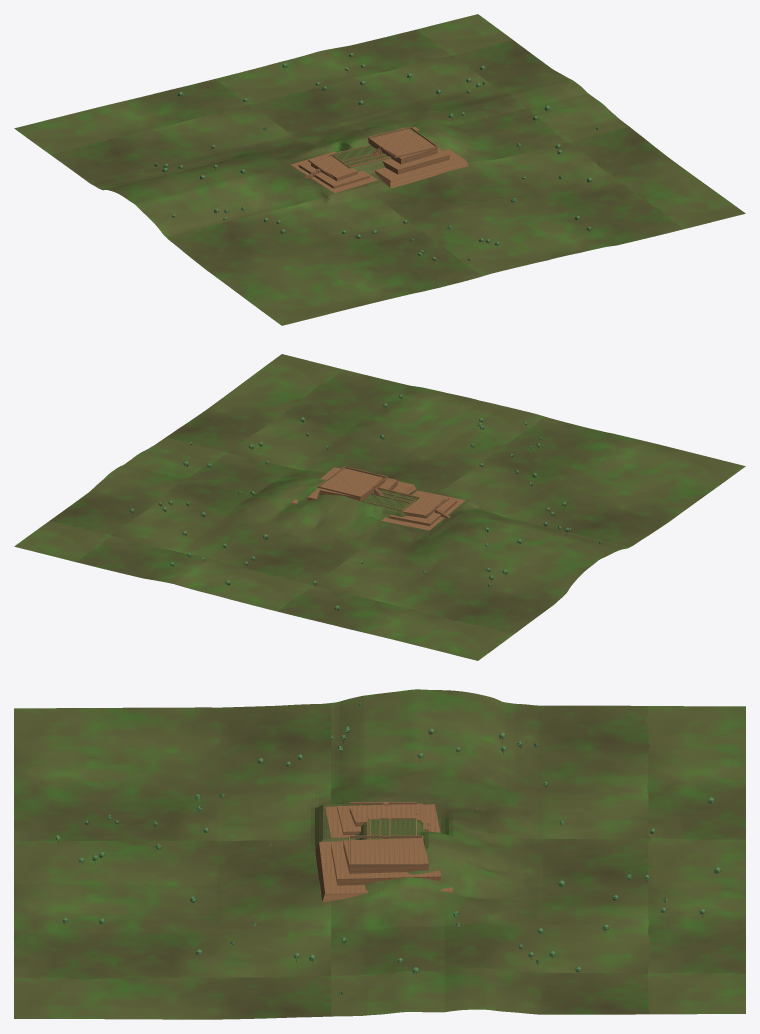
3 views of the same model, one above another, from view 1: azimuth 30°, elevation 25°; view 2: azimuth 150°, elevation 25°; view 3: azimuth 270°, elevation 25° (orthographic). The views are drawn at different scales.
Visible parts, largest first — view 1: GEO-Narihuala_LOD1_Terrain, GEO-Narihuala_LOD1_City, GEO-Narihuala_LOD1_Props; view 2: GEO-Narihuala_LOD1_Terrain, GEO-Narihuala_LOD1_City, GEO-Narihuala_LOD1_Props; view 3: GEO-Narihuala_LOD1_Terrain, GEO-Narihuala_LOD1_City, GEO-Narihuala_LOD1_Props.
Part boxes in pixels (x1,y1,x2,y2): GEO-Narihuala_LOD1_Terrain: [14, 14, 745, 325]; GEO-Narihuala_LOD1_City: [290, 126, 468, 193]; GEO-Narihuala_LOD1_Props: [154, 53, 599, 261]; GEO-Narihuala_LOD1_Terrain: [14, 354, 745, 660]; GEO-Narihuala_LOD1_City: [291, 466, 465, 530]; GEO-Narihuala_LOD1_Props: [129, 394, 601, 610]; GEO-Narihuala_LOD1_Terrain: [14, 689, 745, 1019]; GEO-Narihuala_LOD1_City: [315, 801, 453, 902]; GEO-Narihuala_LOD1_Props: [56, 702, 721, 994].
Size of the model in its own units: 600 by 45.87 by 600.
Materials: 6 (3 with a texture image).
